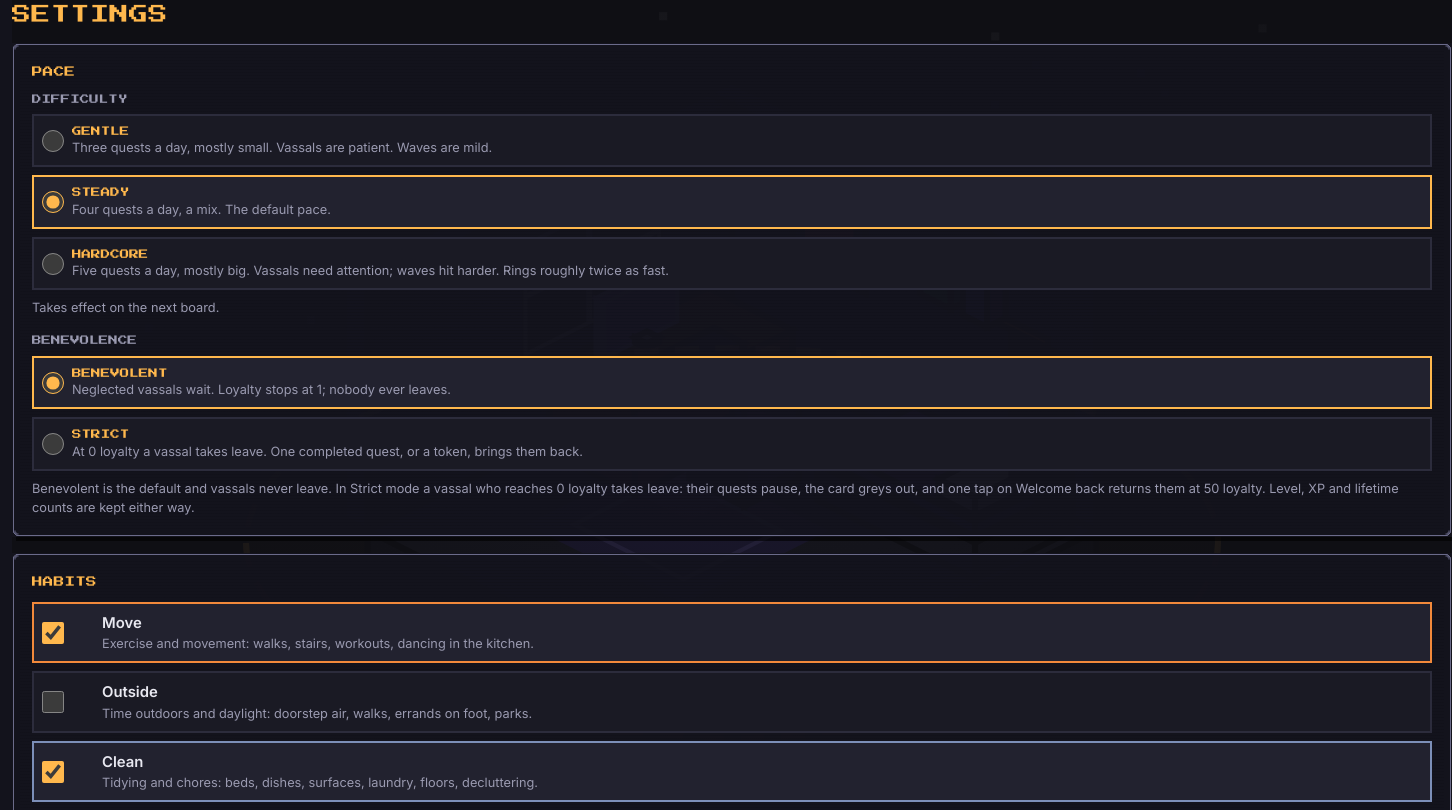
Scenario: SettingsScreen › disables the last enabled habit so at least one stays on
Expected: the checkbox labelled "Move" is enabled, [42, 622, 64, 644]
Click the checkbox labelled "Clean": (53, 772) [42, 761, 64, 783]
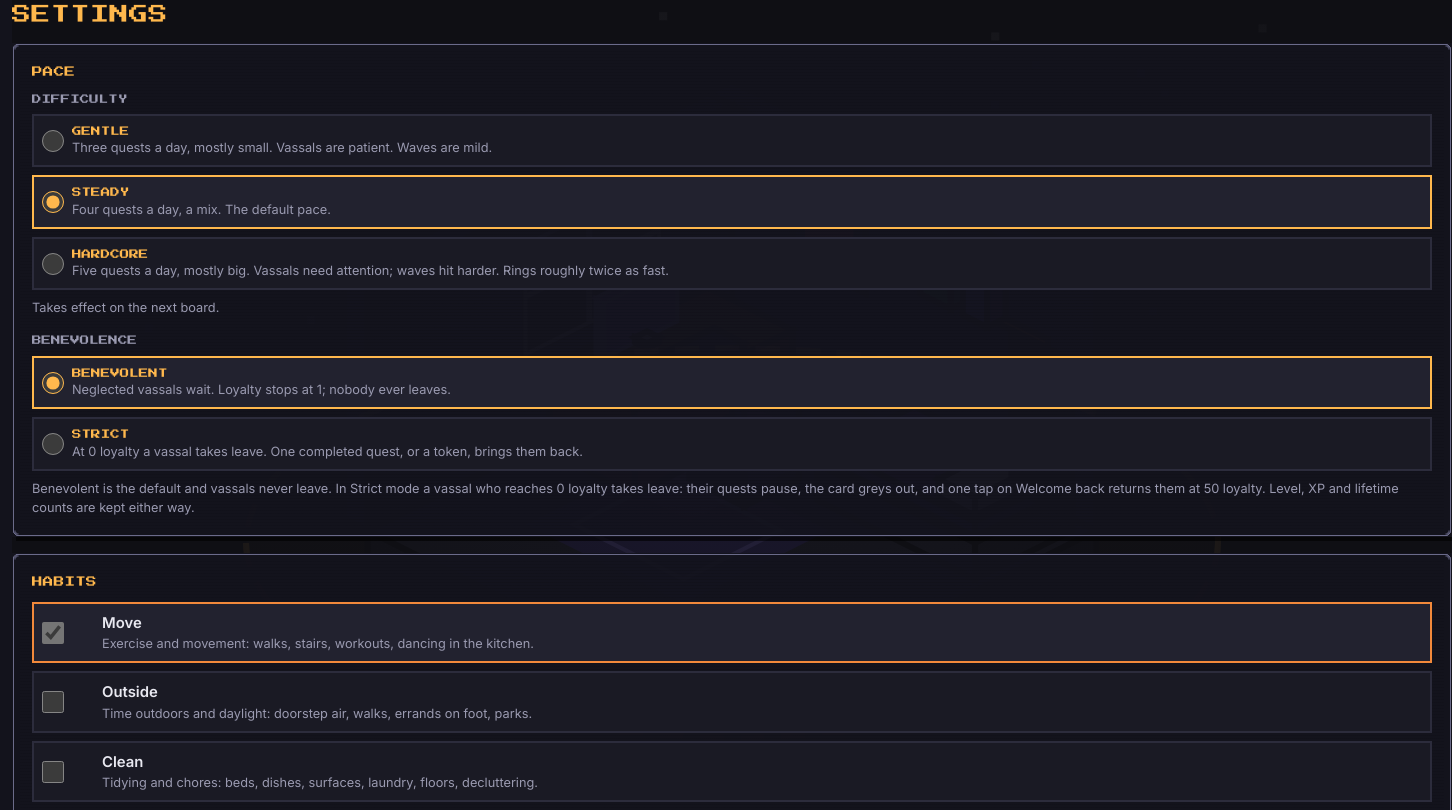
Result: the checkbox labelled "Move" is disabled at [42, 622, 64, 644]
